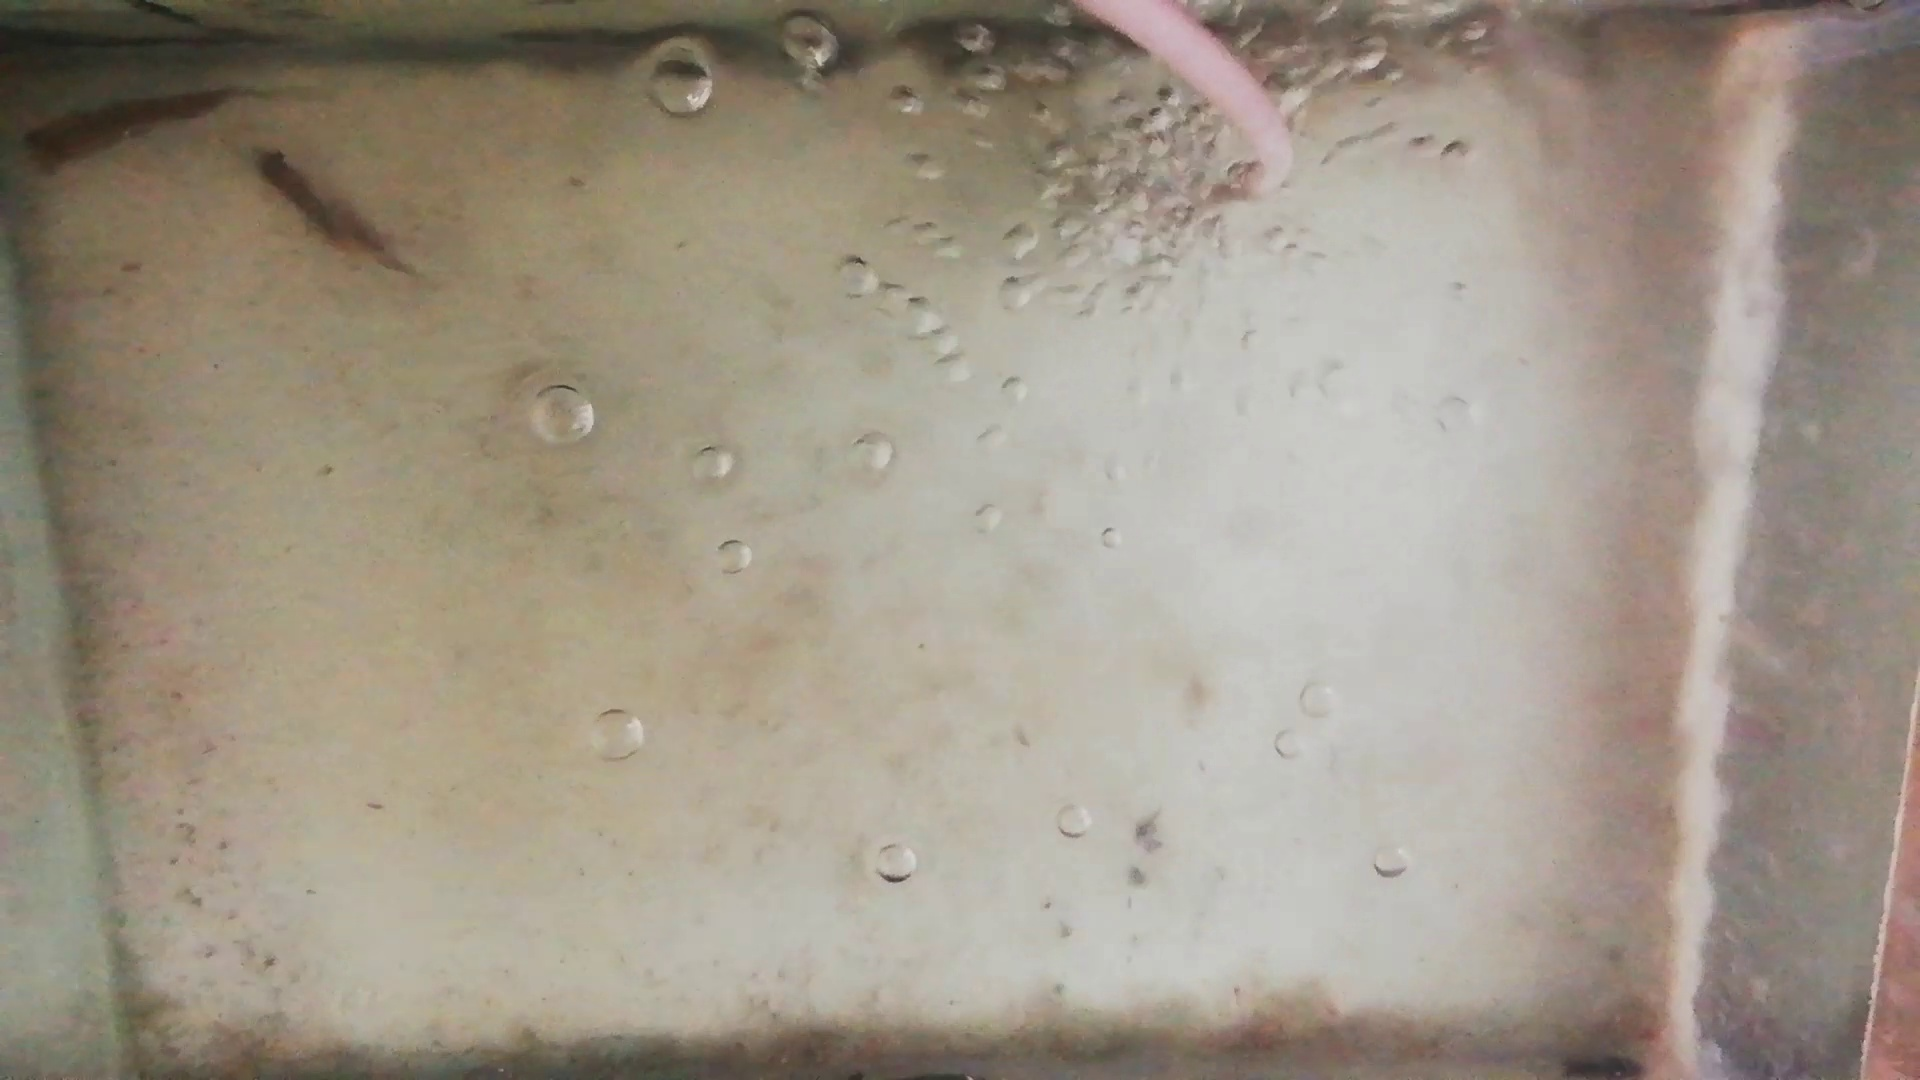fish: (32, 88, 237, 167), (251, 150, 382, 262)
